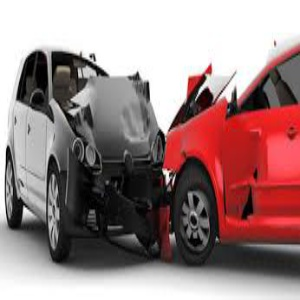bonnet: (73, 80, 161, 154)
bumper: (79, 175, 159, 247)
